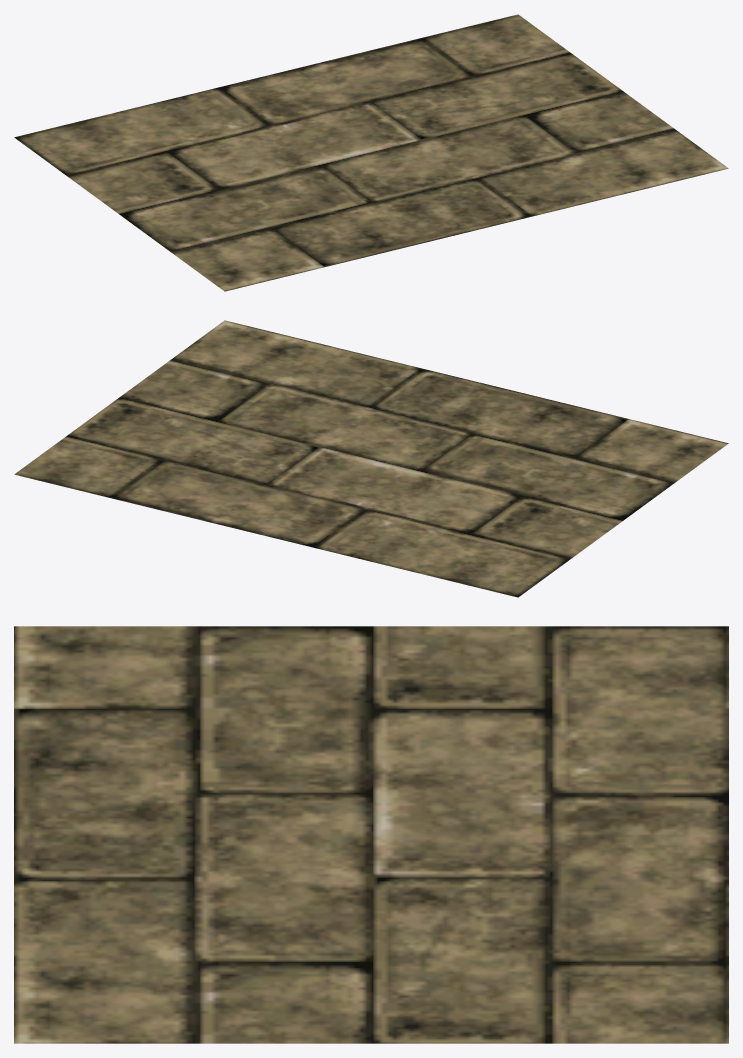
File: OVERHILL_A_01_LINE154.fbx
3 views of the same model, one above another, from view 1: azimuth 30°, elevation 25°; view 2: azimuth 150°, elevation 25°; view 3: azimuth 270°, elevation 25° (orthographic). The views are drawn at different scales.
Visible parts, largest first — view 1: OVERHILL_A_01_LINE154; view 2: OVERHILL_A_01_LINE154; view 3: OVERHILL_A_01_LINE154.
Boxes of the visible parts, x1=… form: OVERHILL_A_01_LINE154: x1=14, y1=14, x2=728, y2=291; OVERHILL_A_01_LINE154: x1=14, y1=320, x2=728, y2=597; OVERHILL_A_01_LINE154: x1=14, y1=626, x2=728, y2=1043.
Size of the model in its own units: 37059 by 0.00437 by 26827.
Materials: 1 (1 with a texture image).
